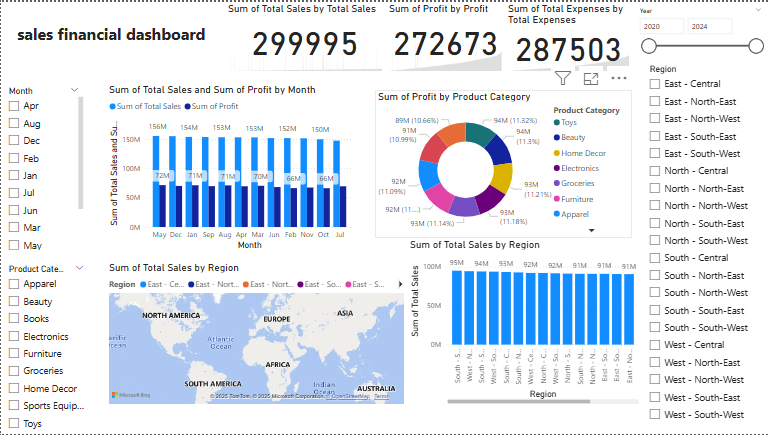

The page's visual inventory and layout, read from the dashboard file:
{"tool":"powerbi","page":{"name":"Page 1","canvas":[1280,720],"ordinal":0},"visuals":[{"type":"kpi","fields":{"Indicator":["Sum(Sheet1.Total Sales)"],"TrendLine":["Sheet1.Total Sales"]},"box":[373.3,0,266.7,120],"z":0},{"type":"kpi","fields":{"Indicator":["Sum(Sheet1.Profit)"],"TrendLine":["Sheet1.Profit"]},"box":[641.7,0,198.3,120],"z":1000},{"type":"kpi","fields":{"Indicator":["Sum(Sheet1.Total Expenses)"],"TrendLine":["Sheet1.Total Expenses"]},"box":[840,0,211.7,120],"z":2000},{"type":"slicer","fields":{"Values":["Sheet1.Month"]},"box":[0,135,141.7,283.3],"z":3000},{"type":"slicer","fields":{"Values":["Sheet1.Product Category"]},"box":[0,431.7,150,288.3],"z":4000},{"type":"lineClusteredColumnComboChart","fields":{"Category":["Sheet1.Month"],"Y":["Sum(Sheet1.Total Sales)","Sum(Sheet1.Profit)"]},"box":[175,135,416.7,283.3],"z":5000},{"type":"slicer","fields":{"Values":["Sheet1.Year"]},"box":[1051.7,3.3,228.3,95],"z":6000},{"type":"map","fields":{"Series":["Sheet1.Region"],"Size":["Sum(Sheet1.Total Sales)"]},"box":[175,431.7,501.7,243.3],"z":7000},{"type":"slicer","fields":{"Values":["Sheet1.Region"]},"box":[1068.3,98.3,211.7,621.7],"z":8000},{"type":"donutChart","fields":{"Category":["Sheet1.Product Category"],"Y":["Sum(Sheet1.Profit)"]},"box":[623.3,146.7,428.3,246.7],"z":8001},{"type":"columnChart","fields":{"Category":["Sheet1.Region"],"Y":["Sum(Sheet1.Total Sales)"]},"box":[676.7,393.3,391.7,281.7],"z":8002},{"type":"textbox","box":[0,30,400,50],"z":8003}]}

Visuals, with their boxes in screenshot pixels (x1, y1, x2, y2), scaled from the page's 1280x720 canvas onto the 769x435 screenshot:
kpi - Sum(Sheet1.Total Sales) x Sheet1.Total Sales: <bbox>224, 0, 384, 72</bbox>
kpi - Sum(Sheet1.Profit) x Sheet1.Profit: <bbox>386, 0, 505, 72</bbox>
kpi - Sum(Sheet1.Total Expenses) x Sheet1.Total Expenses: <bbox>505, 0, 632, 72</bbox>
slicer - Sheet1.Month: <bbox>0, 82, 85, 253</bbox>
slicer - Sheet1.Product Category: <bbox>0, 261, 90, 434</bbox>
lineClusteredColumnComboChart - Sheet1.Month x Sum(Sheet1.Total Sales): <bbox>105, 82, 355, 253</bbox>
slicer - Sheet1.Year: <bbox>632, 2, 768, 59</bbox>
map - Sheet1.Region x Sum(Sheet1.Total Sales): <bbox>105, 261, 407, 408</bbox>
slicer - Sheet1.Region: <bbox>642, 59, 768, 434</bbox>
donutChart - Sheet1.Product Category x Sum(Sheet1.Profit): <bbox>374, 89, 632, 238</bbox>
columnChart - Sheet1.Region x Sum(Sheet1.Total Sales): <bbox>407, 238, 642, 408</bbox>
textbox: <bbox>0, 18, 240, 48</bbox>
